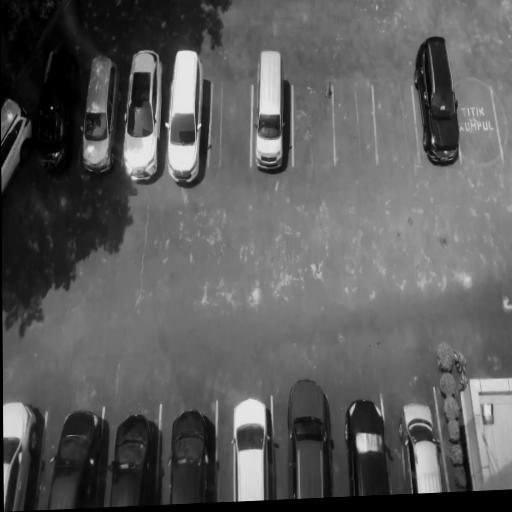Car: (287, 363, 335, 499), (164, 45, 208, 190), (46, 406, 108, 508), (413, 32, 458, 167), (120, 47, 162, 189), (109, 401, 162, 506), (38, 42, 77, 177), (3, 395, 48, 512), (252, 40, 290, 178), (170, 398, 220, 502), (230, 390, 275, 500), (398, 395, 448, 494), (344, 394, 392, 497), (81, 52, 117, 179), (1, 87, 39, 200)
Space Available: (210, 64, 252, 176), (335, 60, 377, 172), (459, 67, 503, 172), (293, 59, 333, 169), (377, 61, 418, 167)
